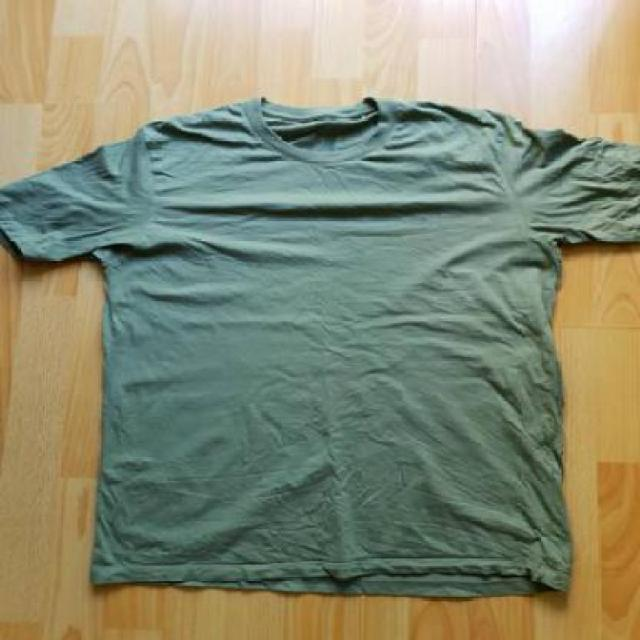shirt: (0, 95, 638, 602)
